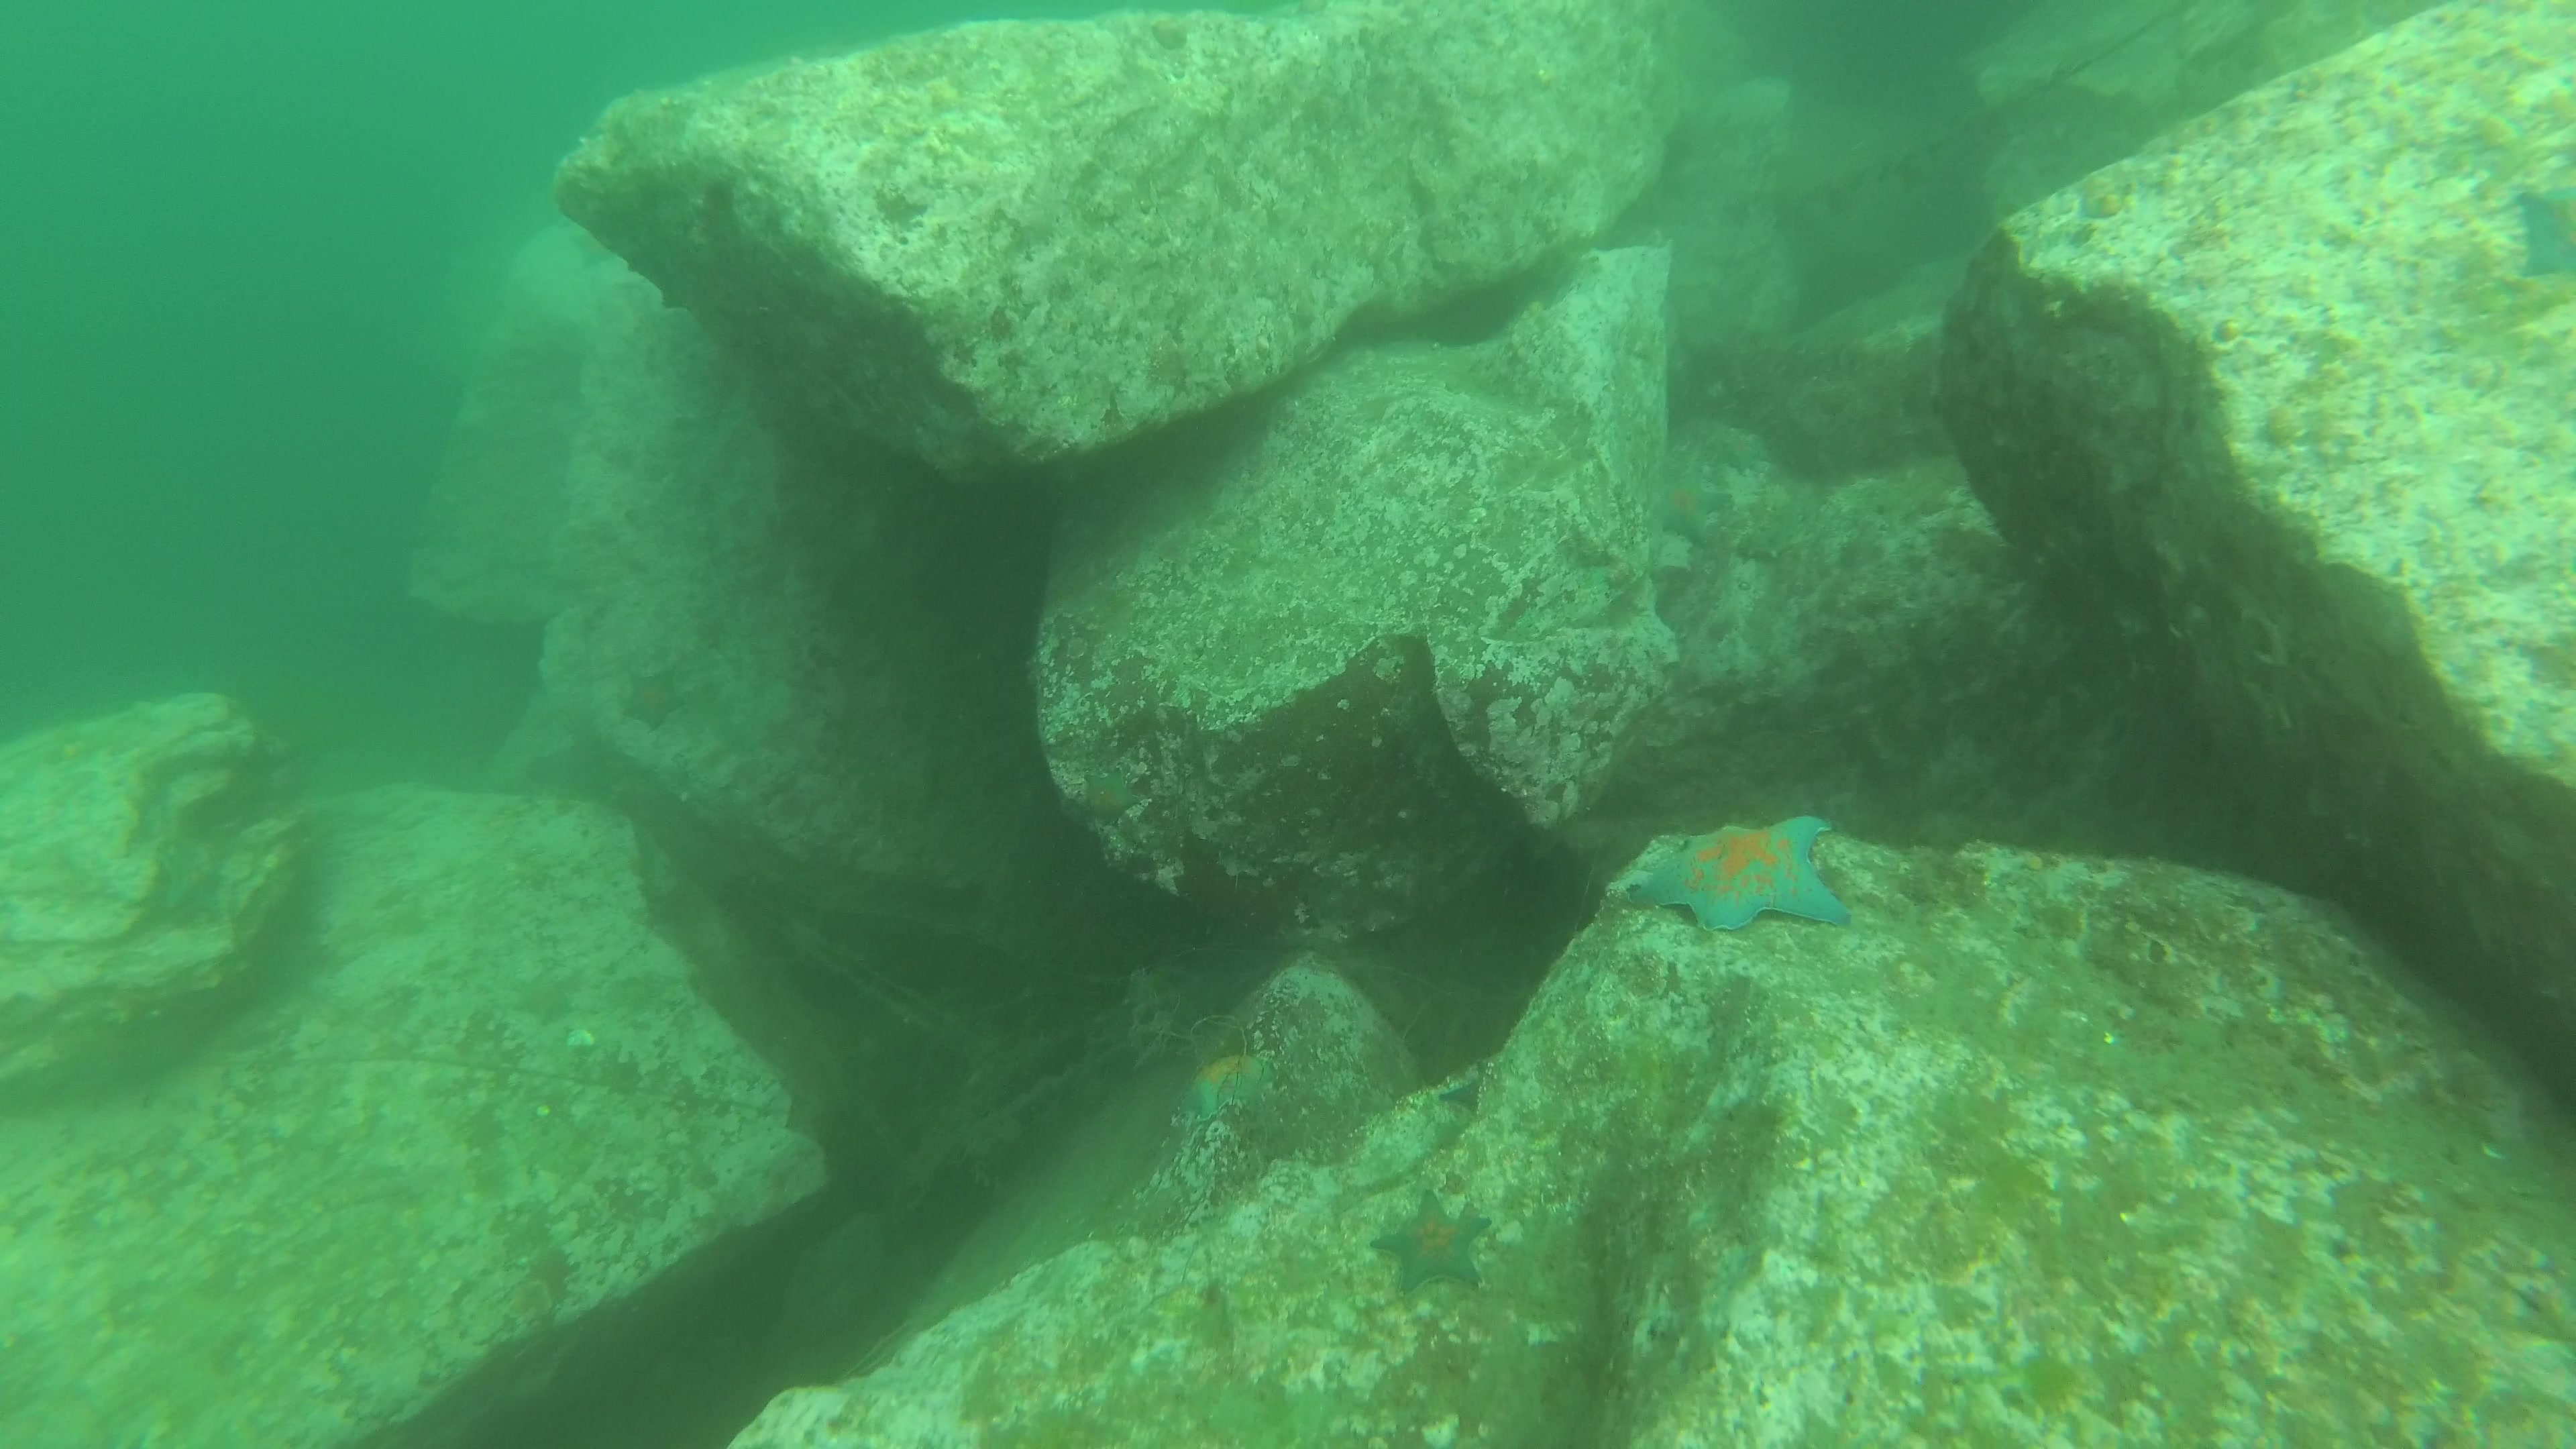starfish: (1629, 809, 1861, 941), (1375, 1189, 1500, 1300), (1177, 1049, 1283, 1123), (1660, 469, 1743, 548), (2512, 184, 2576, 287), (616, 669, 694, 734)
